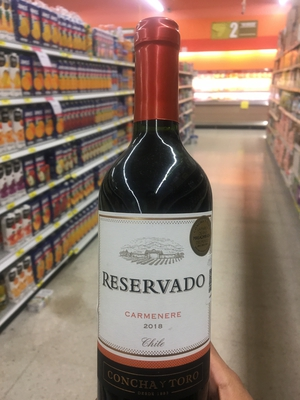reservado carmenere: (98, 27, 211, 397)
